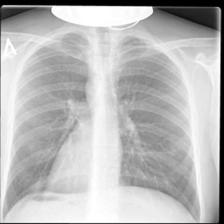tuberculosis: (5, 23, 202, 224)
